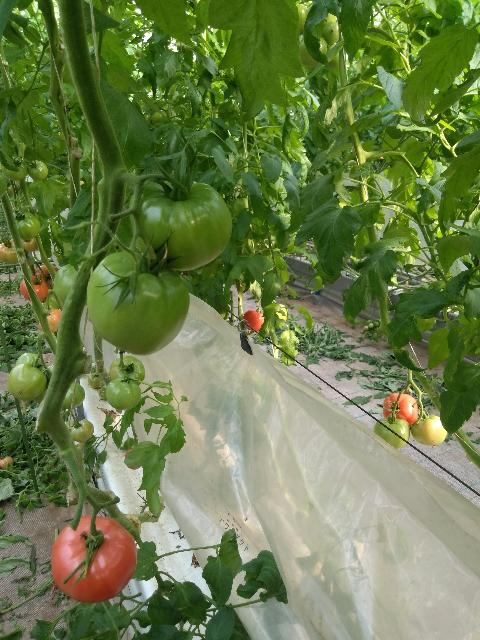b_fully_ripened: (51, 515, 139, 604), (383, 393, 418, 425), (20, 275, 49, 302), (242, 309, 266, 331)
b_green: (87, 250, 190, 356), (130, 179, 232, 272), (53, 263, 91, 308), (6, 363, 47, 401), (105, 378, 142, 410), (374, 417, 411, 448), (411, 415, 448, 446), (109, 355, 145, 386), (14, 211, 40, 239), (1, 157, 28, 181), (62, 382, 85, 410), (71, 419, 94, 443), (15, 353, 44, 370), (27, 160, 48, 180), (0, 172, 6, 199), (26, 254, 35, 266)
b_half_ripened: (34, 264, 59, 290), (38, 310, 62, 334), (1, 238, 19, 263), (21, 237, 39, 252)
